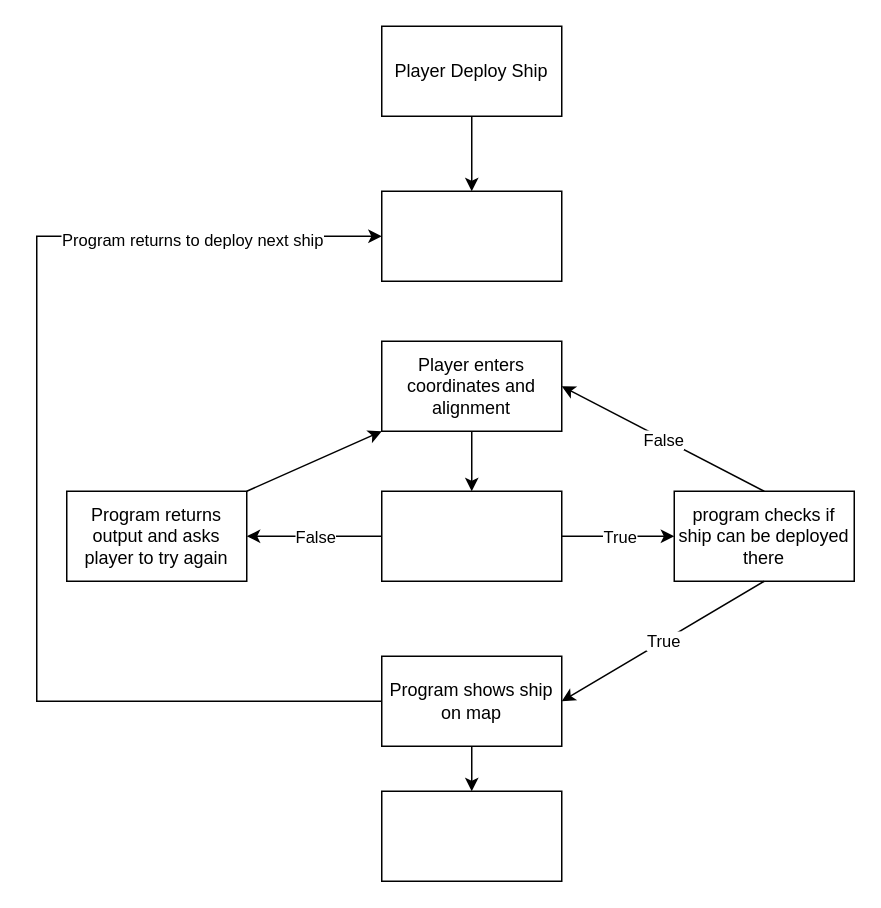
Image size: 881x908. Some labels were removed from this diagram. The shapes that lost their labels are listed below. From the top down, each one's box as (x1, y1, x2, y2) in pixels, then its label:
(380, 190, 562, 281): Program selects next biggest ship in fleet
(380, 490, 562, 581): Program checks if coordinates are valid
(380, 790, 562, 881): All ships Deployed, start game
